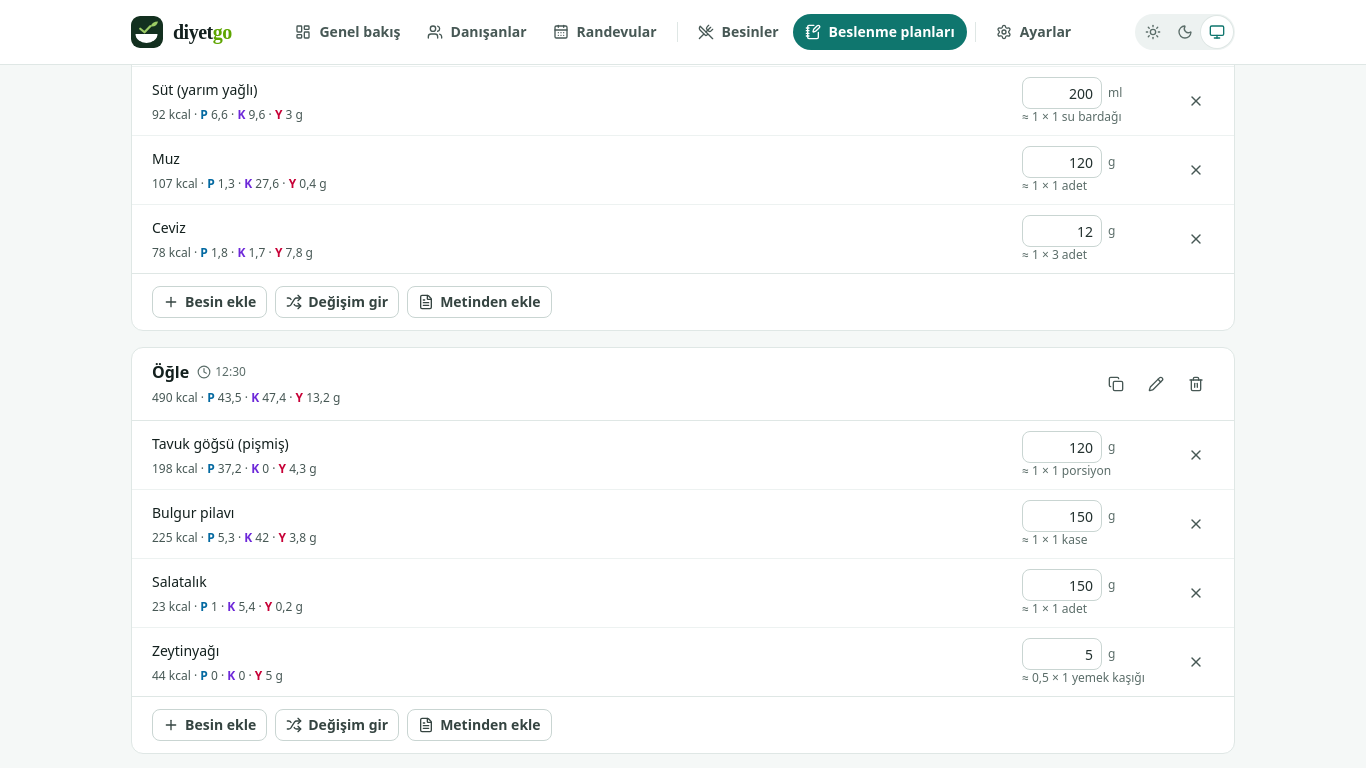
Test: Öğünler › öğünü onayla siler
(page scrolled)
Step 1. Click the button named "Öğle öğününü sil" → (1196, 384), box [1178, 368, 1214, 400]
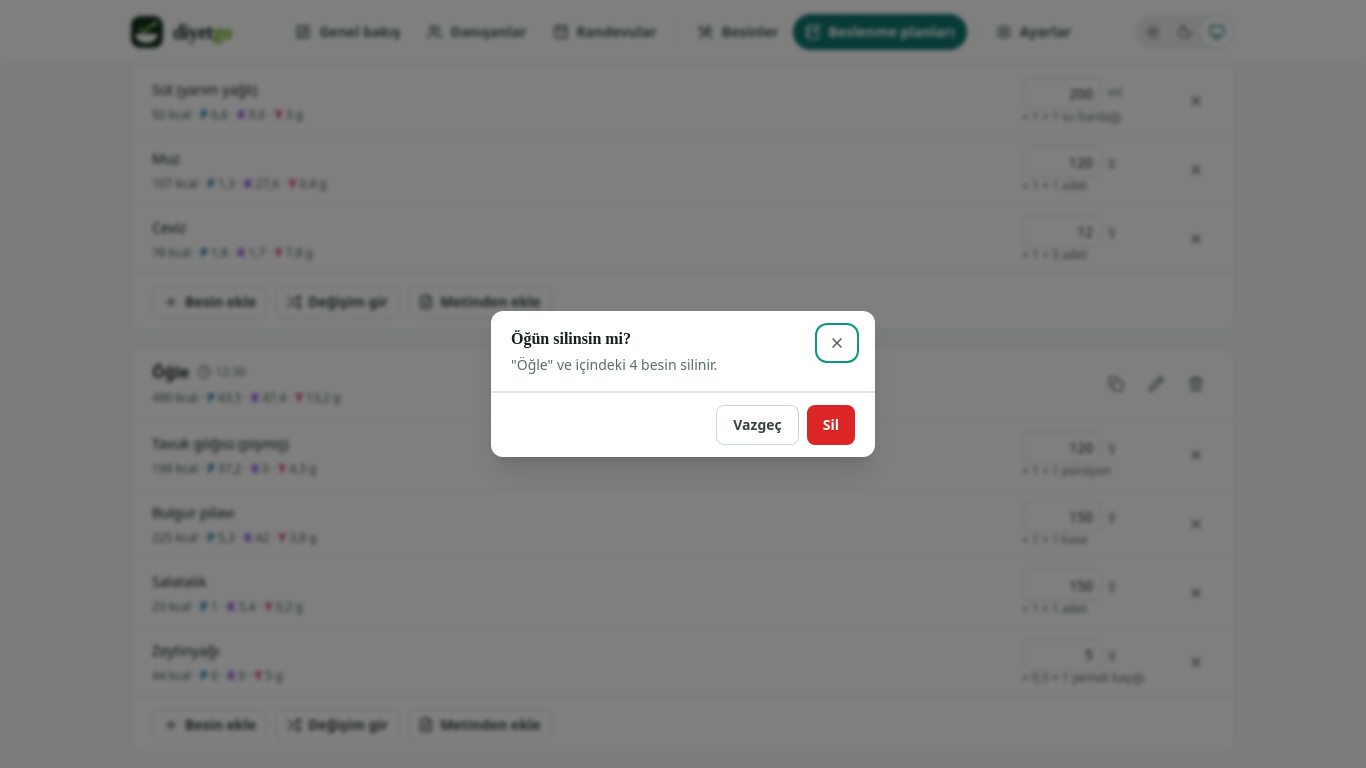
Expected: the text "\"Öğle\" ve içindeki 4 besin silinir." is shown, [511, 355, 717, 375]
Step 2. Click the button "Sil" → (831, 425), box [807, 405, 855, 445]
(page scrolled)
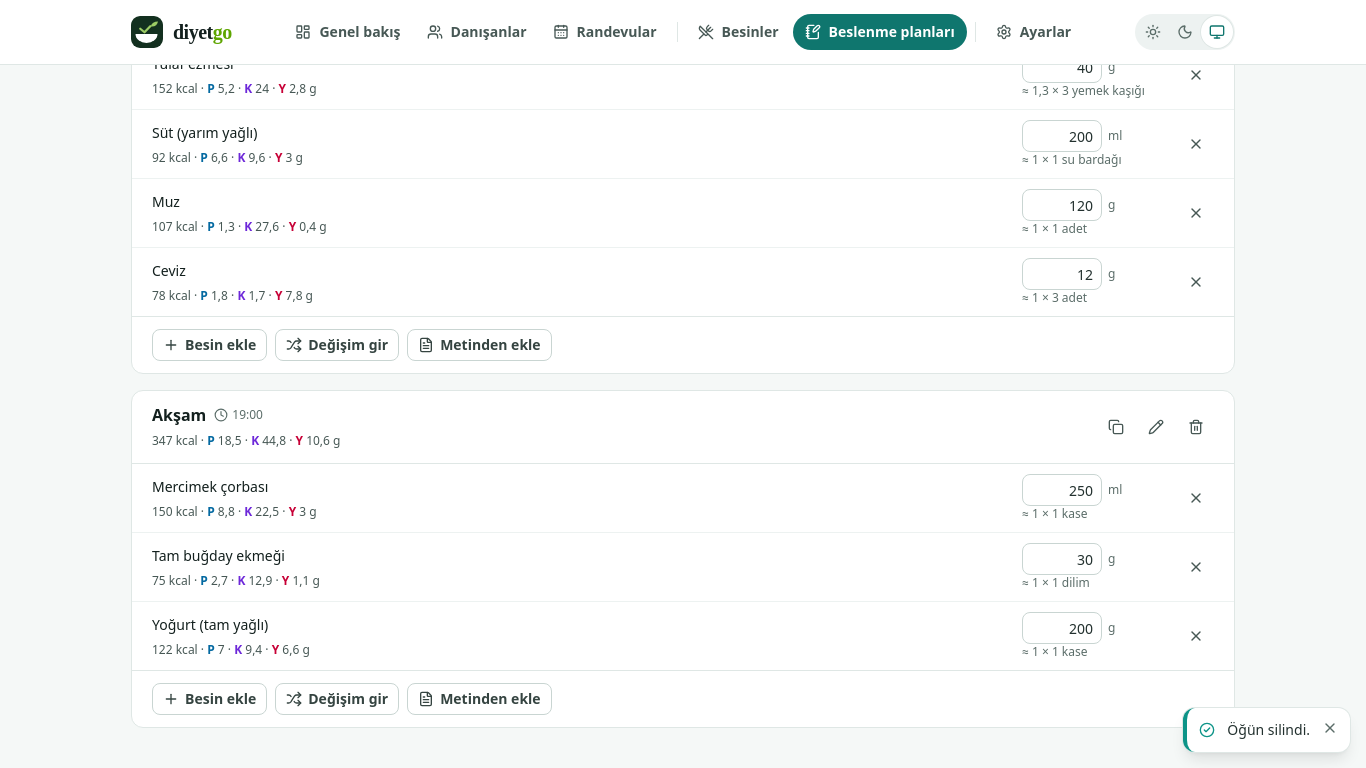
Expected: the text "Öğün silindi." is shown, [1227, 720, 1310, 740]
Expected: the heading "Öğle" is gone
